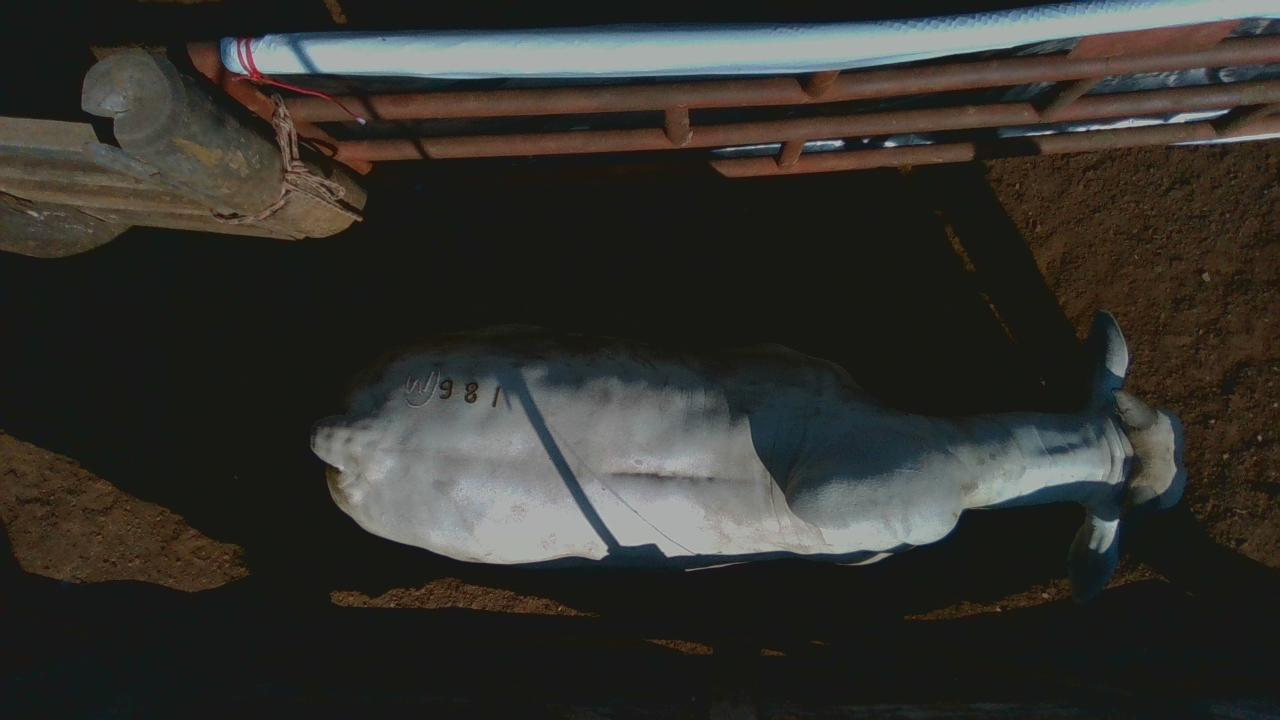cattle: (309, 307, 1187, 603)
